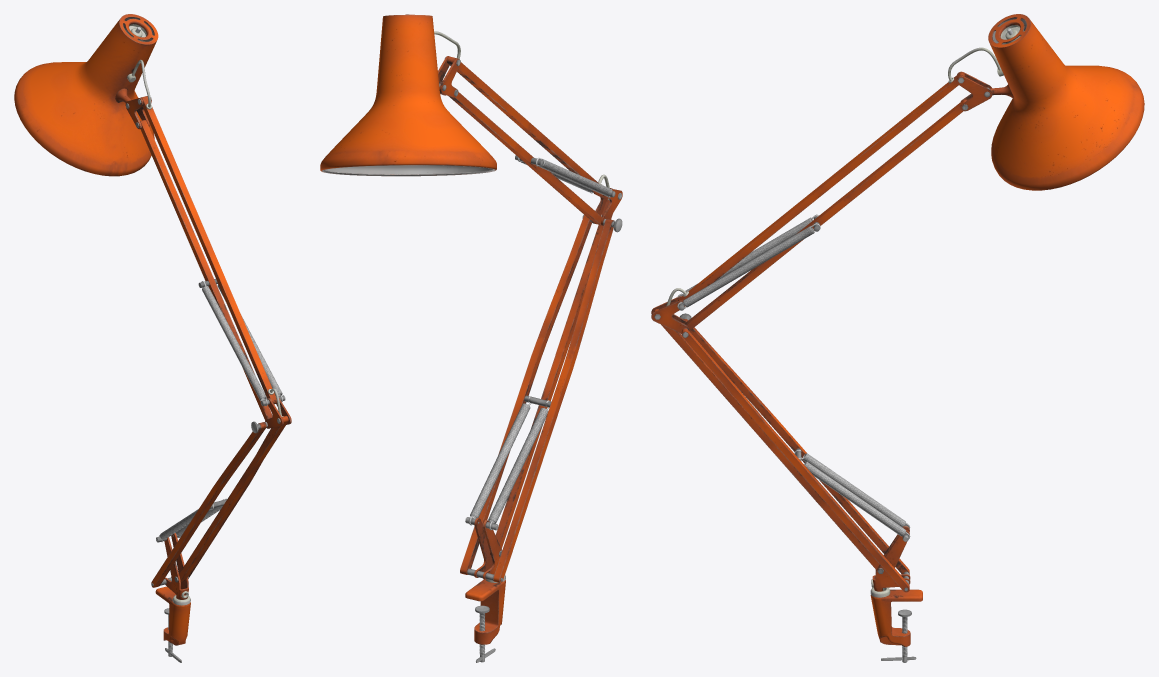
File: ph-desk-lamp.glb
The picture shows the model from 3 angles, left to right: view 1: azimuth 30°, elevation 25°; view 2: azimuth 150°, elevation 25°; view 3: azimuth 270°, elevation 25°; orthographic projection. The views are drawn at different scales.
Parts seen in each view (by area): view 1: desk_lamp_arm_01; view 2: desk_lamp_arm_01; view 3: desk_lamp_arm_01.
Part boxes in pixels (<box>): desk_lamp_arm_01: <box>14,14,291,662</box>; desk_lamp_arm_01: <box>320,14,622,662</box>; desk_lamp_arm_01: <box>651,14,1144,662</box>.
Bounding box in the file's own units: 0.2017 × 0.8926 × 0.6139.
2 materials, 2 textured.
